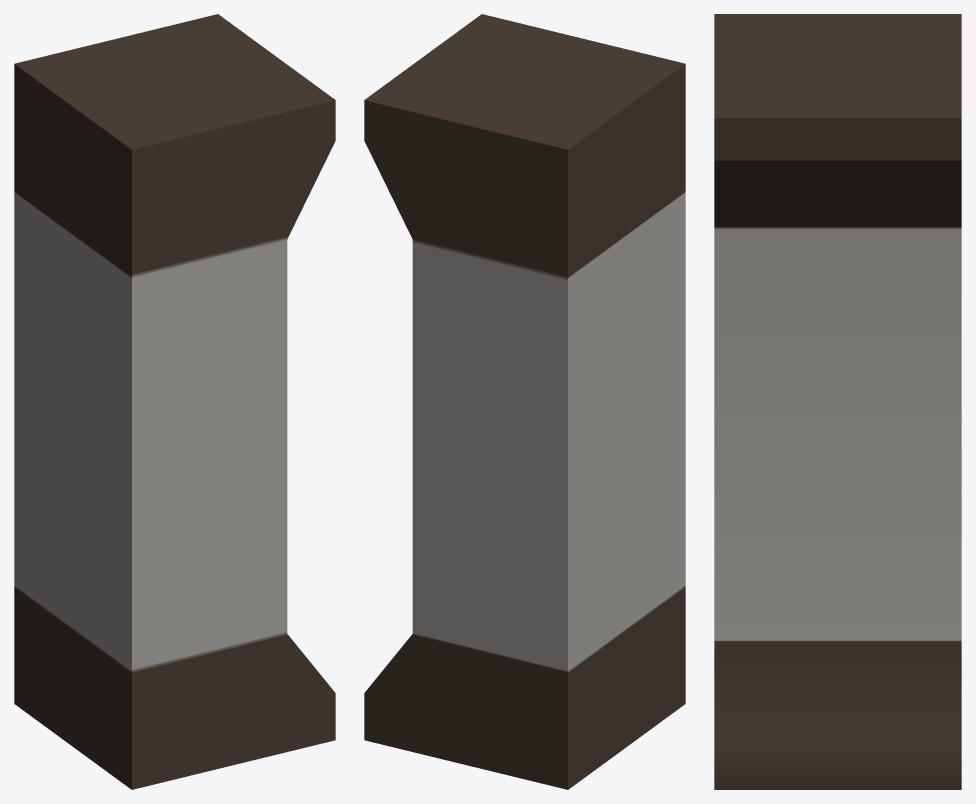
Rendered from Basic_Wall.fbx.
The picture shows the model from 3 angles, left to right: view 1: azimuth 30°, elevation 25°; view 2: azimuth 150°, elevation 25°; view 3: azimuth 270°, elevation 25°; orthographic projection. The views are drawn at different scales.
Visible parts, largest first — view 1: pCube1; view 2: pCube1; view 3: pCube1.
Boxes of the visible parts, x1,y1,x2,y2 form: pCube1: (14, 14, 335, 789); pCube1: (364, 14, 685, 789); pCube1: (714, 14, 961, 789).
Size of the model in its own units: 100 by 300 by 100.
1 material, 1 textured.
